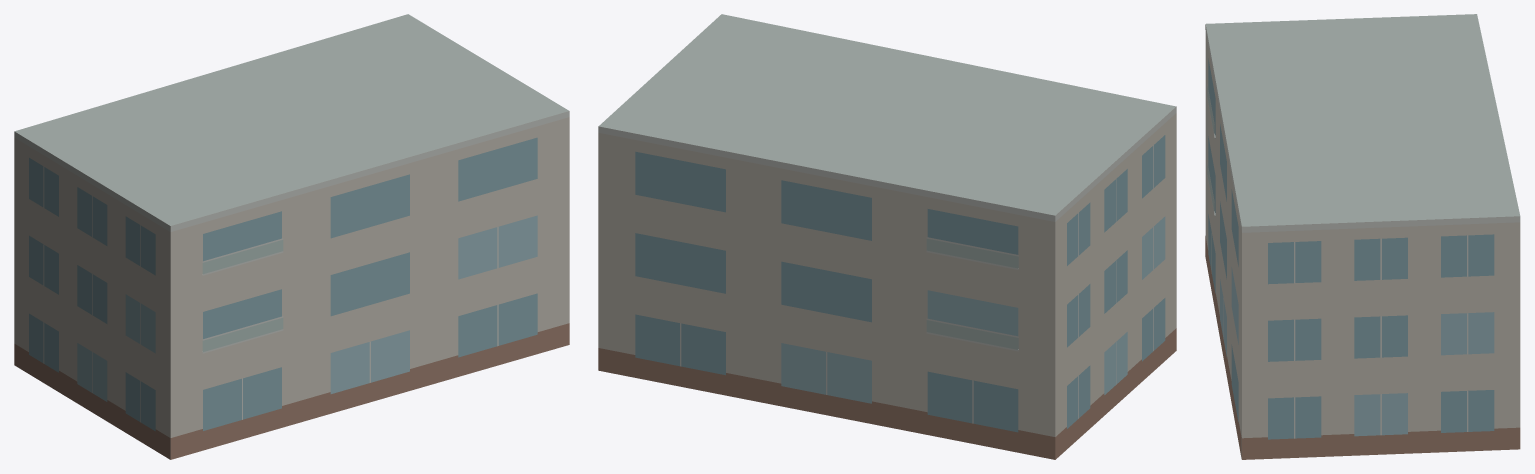
Rendered from survey-upis-32758996.glb.
The picture shows the model from 3 angles, left to right: view 1: azimuth 30°, elevation 25°; view 2: azimuth 150°, elevation 25°; view 3: azimuth 270°, elevation 25°; orthographic projection. The views are drawn at different scales.
Parts seen in each view (by area): view 1: survey-upis-32758996.tmp; view 2: survey-upis-32758996.tmp; view 3: survey-upis-32758996.tmp.
Part boxes in pixels (<box>): survey-upis-32758996.tmp: <box>14,14,569,459</box>; survey-upis-32758996.tmp: <box>598,14,1176,459</box>; survey-upis-32758996.tmp: <box>1205,14,1520,459</box>.
Size of the model in its own units: 18.41 by 9.4 by 11.52.
